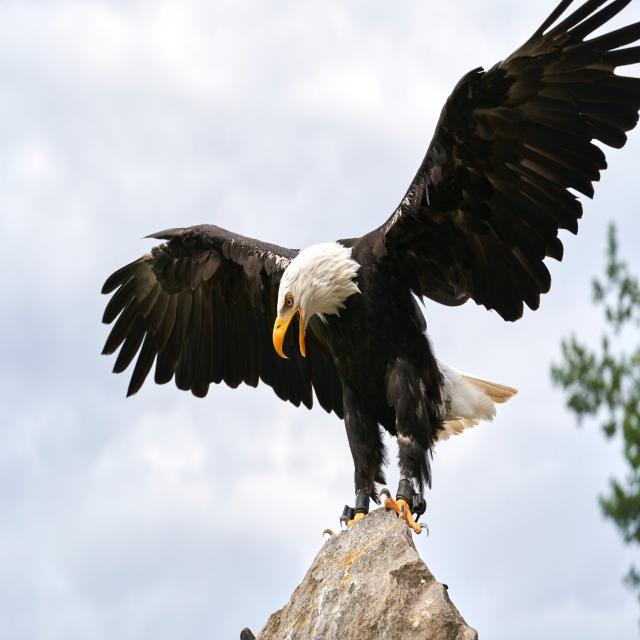Eagle: (93, 0, 640, 526)
